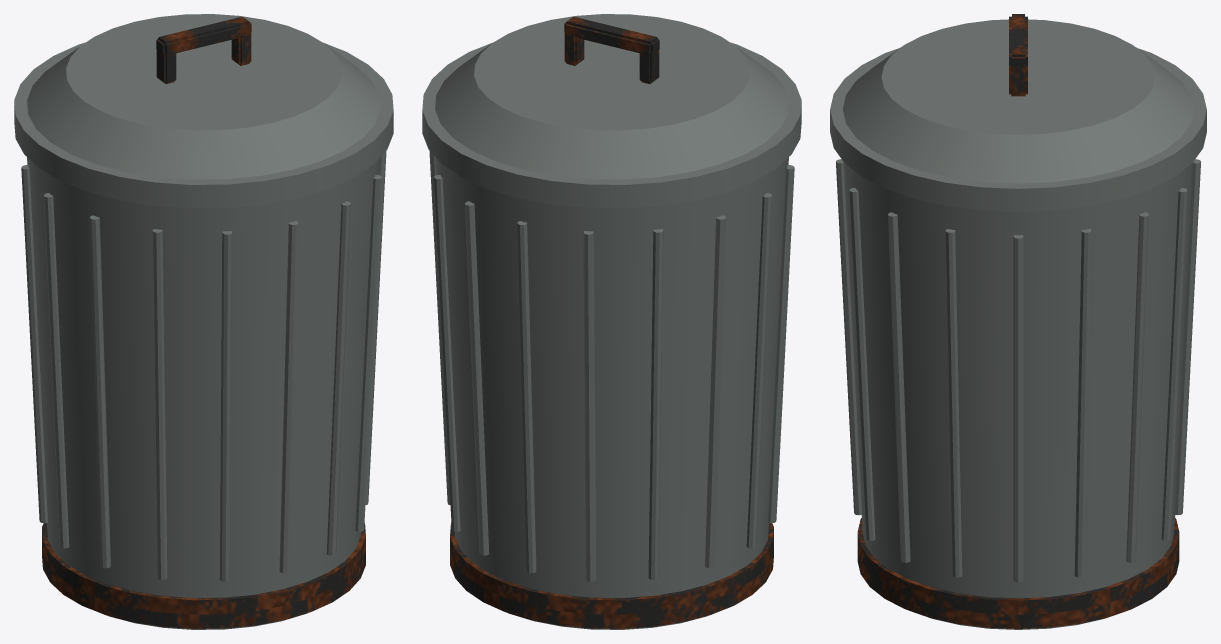
File: SM_GalvanizedWasteBin_711d884c0f.fbx
The picture shows the model from 3 angles, left to right: view 1: azimuth 30°, elevation 25°; view 2: azimuth 150°, elevation 25°; view 3: azimuth 270°, elevation 25°; orthographic projection.
Parts seen in each view (by area): view 1: SM_GalvanizedWasteBin_711d884c0f; view 2: SM_GalvanizedWasteBin_711d884c0f; view 3: SM_GalvanizedWasteBin_711d884c0f.
Boxes of the visible parts, <box> form: SM_GalvanizedWasteBin_711d884c0f: <box>14,14,393,629</box>; SM_GalvanizedWasteBin_711d884c0f: <box>422,14,801,629</box>; SM_GalvanizedWasteBin_711d884c0f: <box>830,14,1206,629</box>.
Size of what is drawn, in the model's own units: 66 by 66 by 103.
2 materials, 1 textured.
